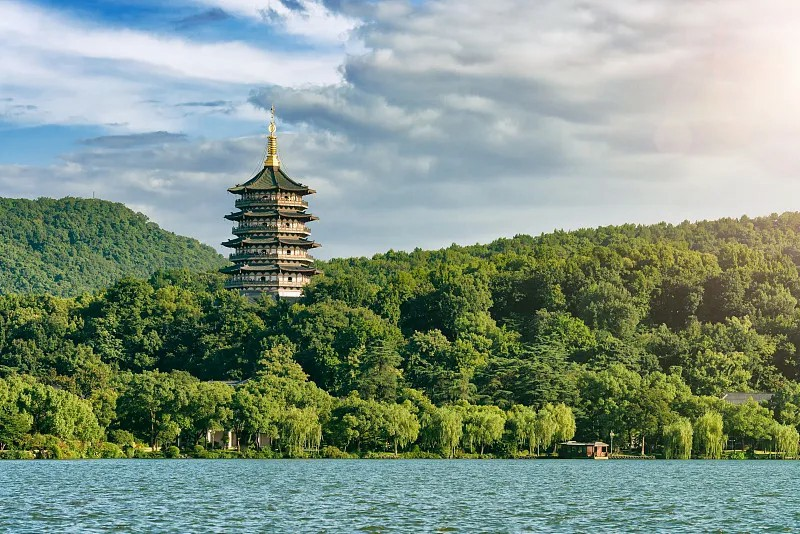Leifeng: (217, 104, 322, 304)
